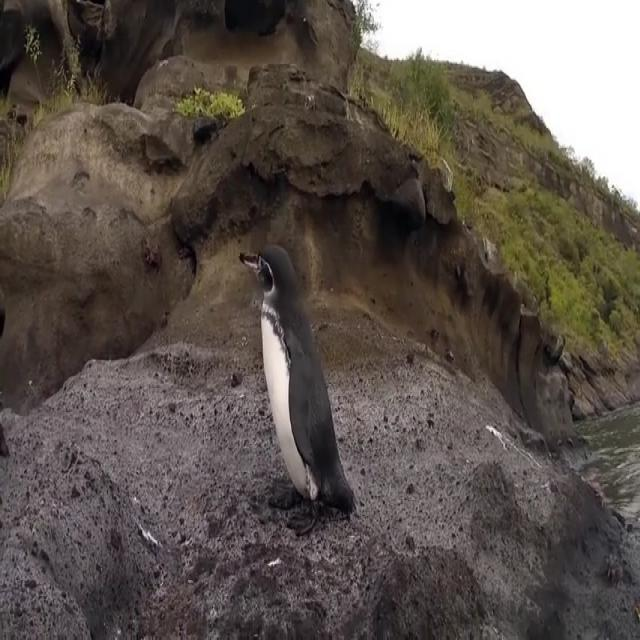penguin: (240, 244, 358, 536)
